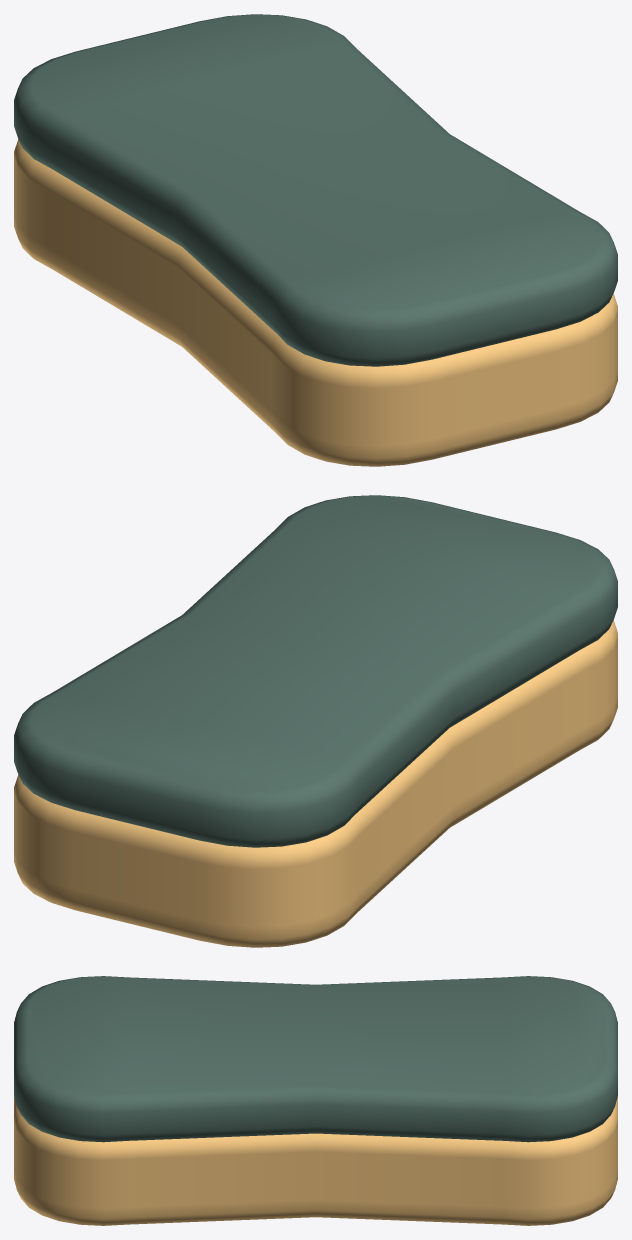
The model's file is Cleaning_Sponge.glb.
3 renders of one model, top to bottom at view 1: azimuth 30°, elevation 25°; view 2: azimuth 150°, elevation 25°; view 3: azimuth 270°, elevation 25°, orthographic. The views are drawn at different scales.
Parts seen in each view (by area): view 1: Cleaning_Sponge; view 2: Cleaning_Sponge; view 3: Cleaning_Sponge.
Part boxes in pixels (x1,y1,x2,y2): Cleaning_Sponge: [14, 14, 617, 466]; Cleaning_Sponge: [14, 495, 617, 947]; Cleaning_Sponge: [14, 976, 617, 1225].
Bounding box in the file's own units: 0.2241 × 0.1049 × 0.4397.
1 material, 1 textured.
